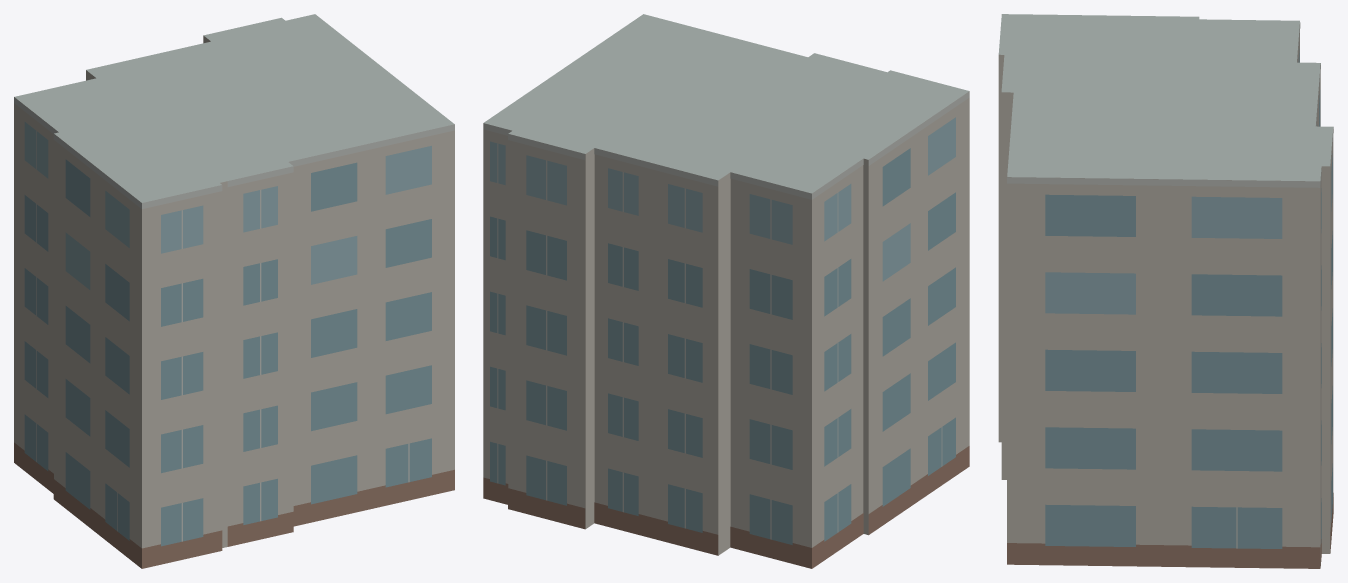
File: survey-upis-32929341.glb
3 renders of one model, left to right at view 1: azimuth 30°, elevation 25°; view 2: azimuth 150°, elevation 25°; view 3: azimuth 270°, elevation 25°, orthographic. The views are drawn at different scales.
Visible parts, largest first — view 1: survey-upis-32929341.tmp; view 2: survey-upis-32929341.tmp; view 3: survey-upis-32929341.tmp.
Boxes of the visible parts, box(x1,y1,x2,y2) form: survey-upis-32929341.tmp: box(14, 14, 454, 568); survey-upis-32929341.tmp: box(483, 14, 969, 568); survey-upis-32929341.tmp: box(998, 14, 1333, 568).
Bounding box in the file's own units: 13.43 × 14.5 × 11.36.
